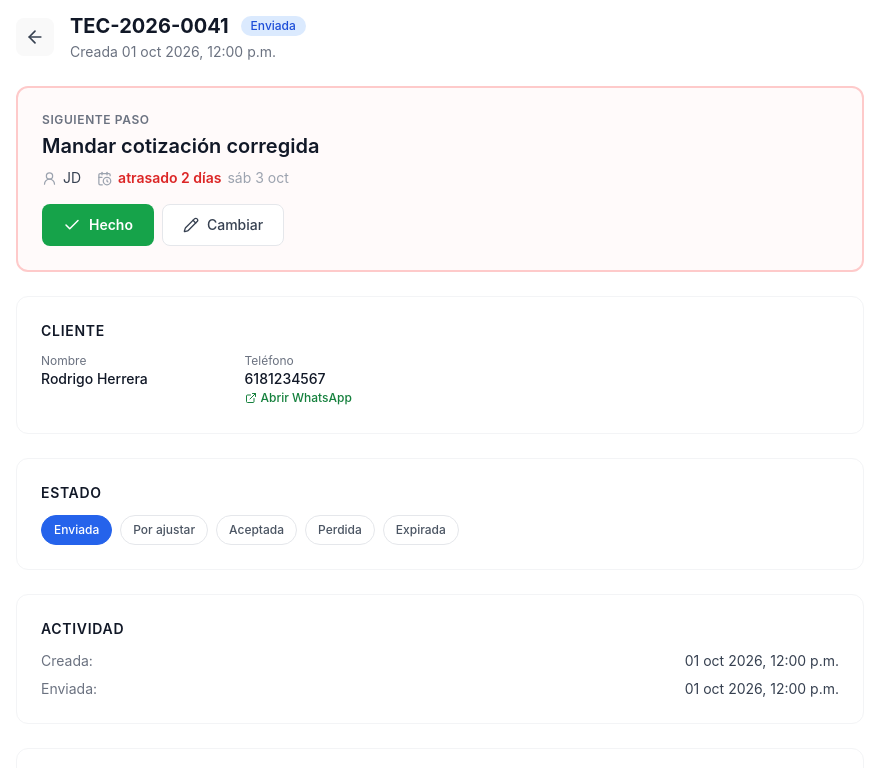
Test case: «Hecho» clears the step, then asks «¿Qué sigue?» with the editor open
Check: the text "Mandar cotización corregida" is shown, box [42, 134, 319, 158]
Check: the text "atrasado 2 días" is shown, box [118, 168, 222, 188]
Click the button "Hecho" at [98, 225], box [42, 204, 154, 246]
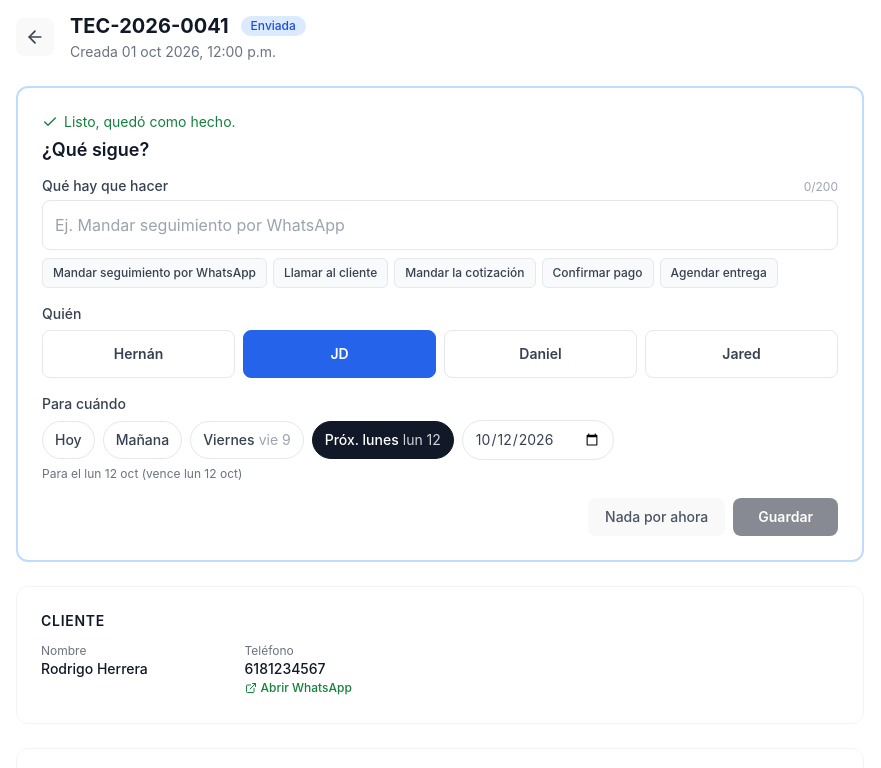
Check: the heading "¿Qué sigue?" is shown, box [42, 139, 149, 160]
Check: the date field named "Otra fecha" holds "2026-10-12", box [462, 420, 614, 460]
Click the button "Llamar al cliente" at [331, 273], box [273, 258, 388, 288]
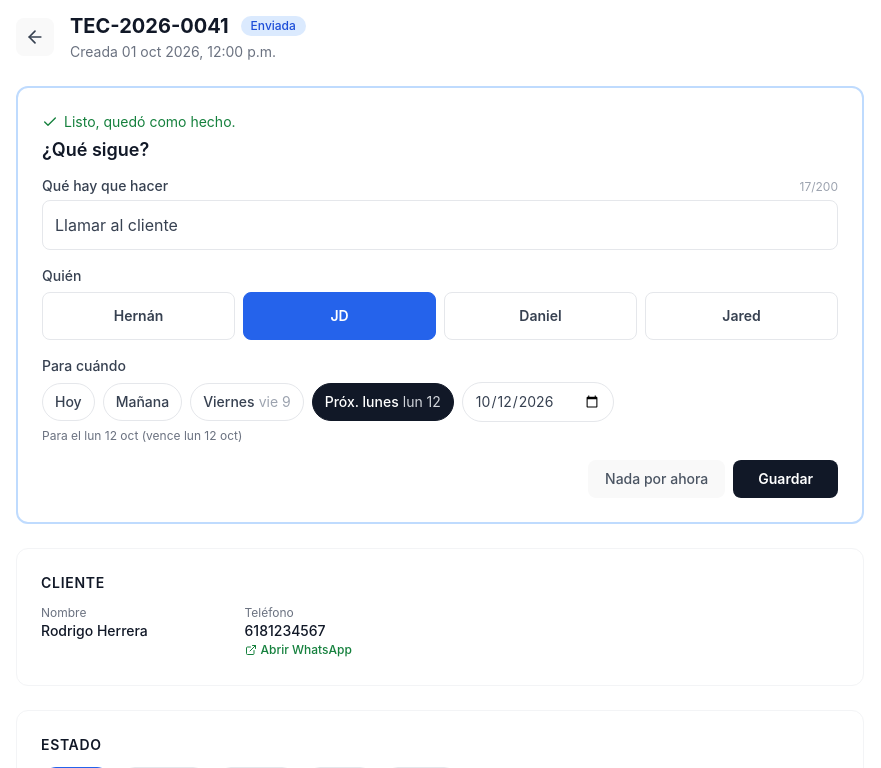
Click the button "Viernes" at [247, 402], box [190, 383, 304, 421]
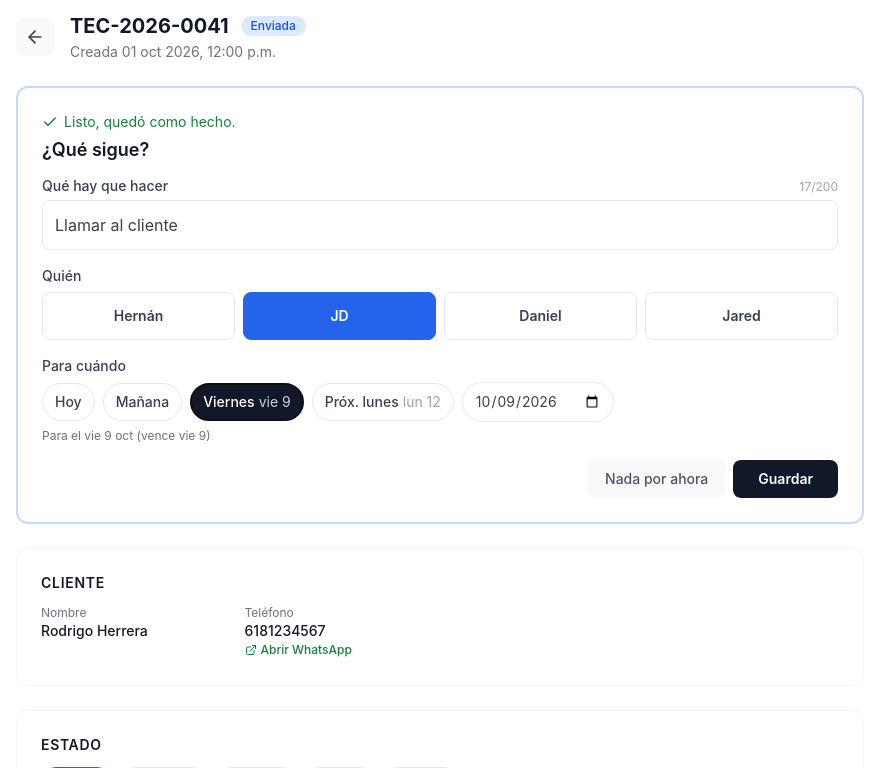
Click the button "Guardar" at [786, 479], box [733, 460, 838, 498]
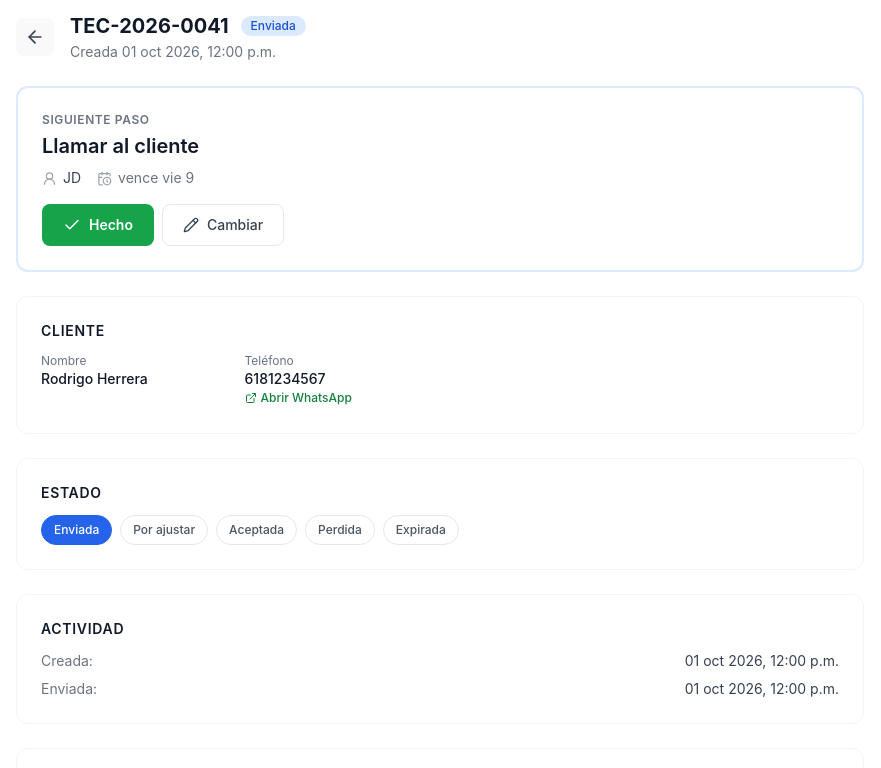
Check: the text "vence vie 9" is shown, box [118, 168, 194, 188]
Check: the text "Llamar al cliente" is shown, box [42, 134, 199, 158]
